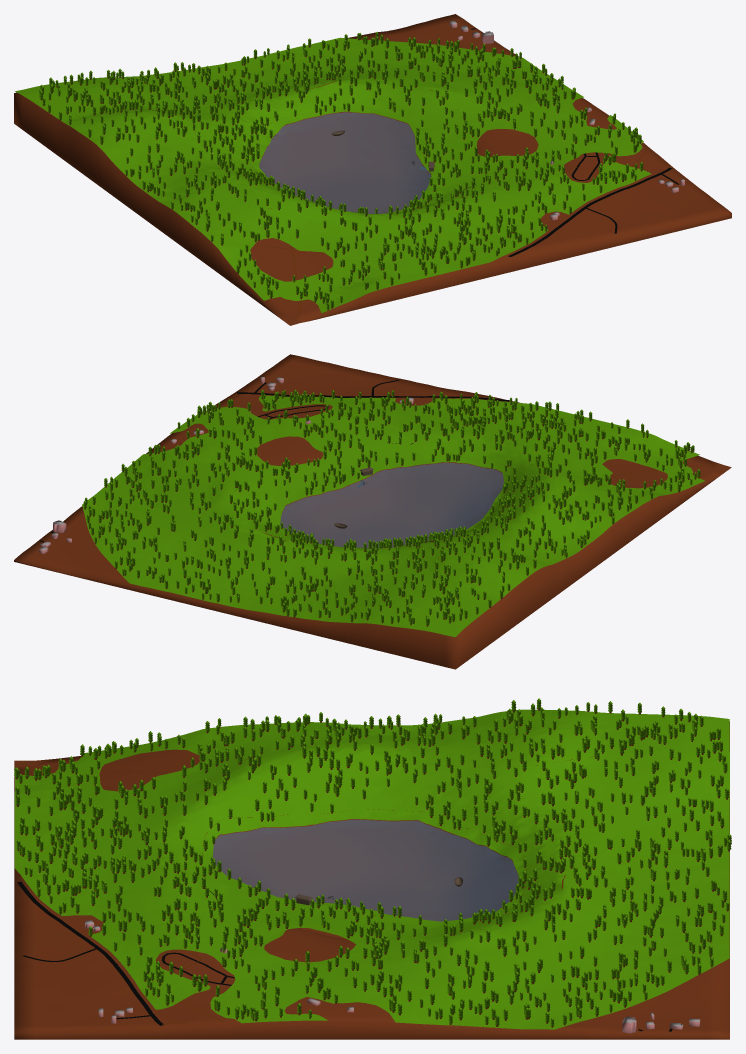
File: page7.glb
3 views of the same model, one above another, from view 1: azimuth 30°, elevation 25°; view 2: azimuth 150°, elevation 25°; view 3: azimuth 270°, elevation 25° (orthographic). The views are drawn at different scales.
Visible parts, largest first — view 1: map_3.osm_forest, Terrain, map_3.osm_water, map_3.osm_buildings, map_3.osm_roads_tertiary; view 2: map_3.osm_forest, Terrain, map_3.osm_water, map_3.osm_buildings; view 3: map_3.osm_forest, Terrain, map_3.osm_water, map_3.osm_buildings, map_3.osm_roads_tertiary, map_3.osm_roads_service.
Part boxes in pixels (bbox=[...]): map_3.osm_forest: bbox=[15, 37, 650, 312]; Terrain: bbox=[14, 14, 731, 325]; map_3.osm_water: bbox=[259, 112, 431, 213]; map_3.osm_buildings: bbox=[449, 20, 684, 220]; map_3.osm_roads_tertiary: bbox=[508, 167, 672, 256]; map_3.osm_forest: bbox=[82, 395, 704, 637]; Terrain: bbox=[14, 354, 731, 669]; map_3.osm_water: bbox=[280, 463, 503, 548]; map_3.osm_buildings: bbox=[39, 376, 413, 553]; map_3.osm_forest: bbox=[14, 709, 729, 1029]; Terrain: bbox=[14, 721, 729, 1039]; map_3.osm_water: bbox=[213, 820, 518, 921]; map_3.osm_buildings: bbox=[84, 920, 700, 1033]; map_3.osm_roads_tertiary: bbox=[17, 881, 163, 1025]; map_3.osm_roads_service: bbox=[23, 890, 672, 1031].
Size of the model in its own units: 16.79 by 2.72 by 18.2.
